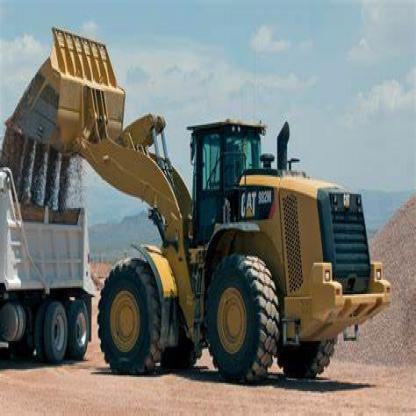bull_dozer/loader/grader: (3, 20, 392, 385)
